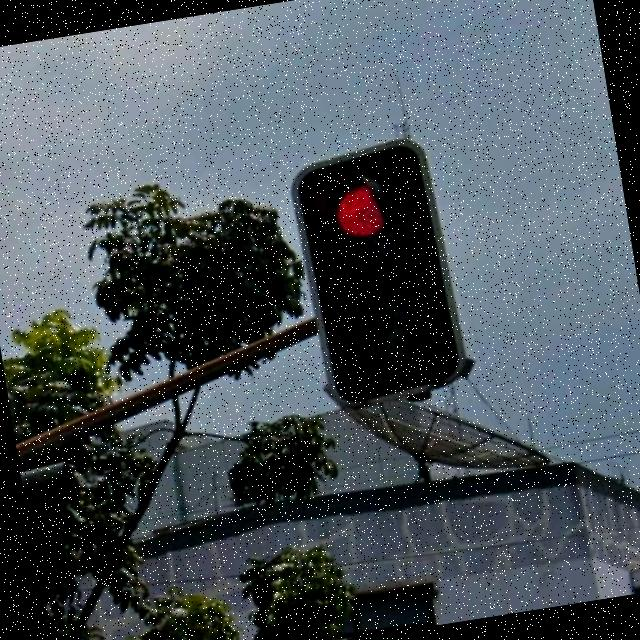Czerwone swiatlo: (296, 151, 458, 396)
